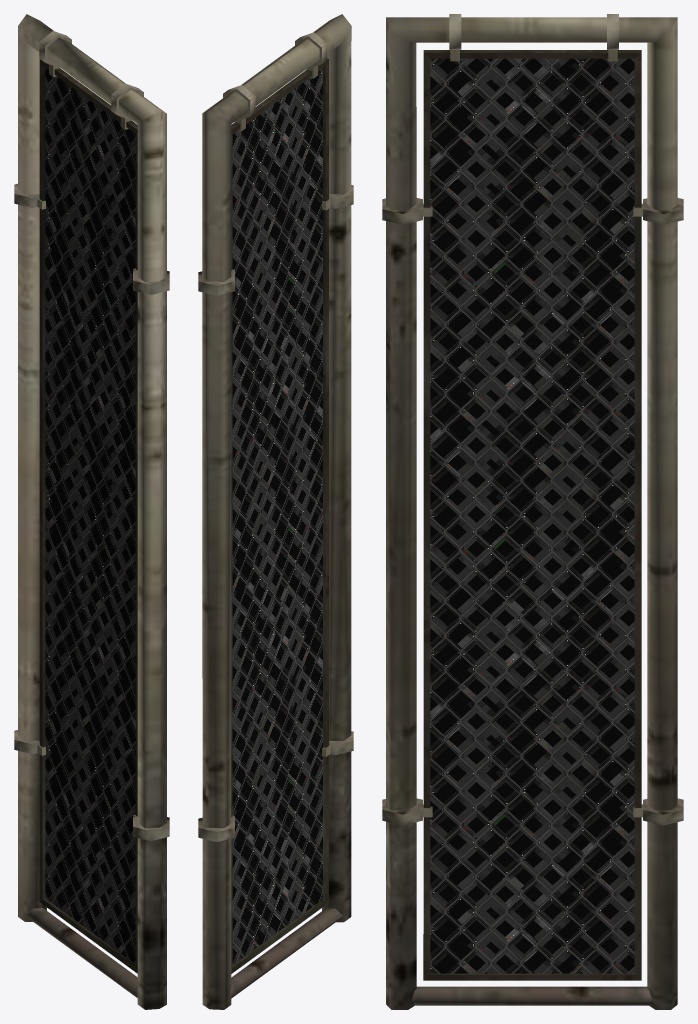
File: interior_fence003a.glb
3 views of the same model, side by side, from view 1: azimuth 30°, elevation 25°; view 2: azimuth 150°, elevation 25°; view 3: azimuth 270°, elevation 25° (orthographic). The views are drawn at different scales.
Parts seen in each view (by area): view 1: 1_fence_alpha, 0_prison_yard001; view 2: 1_fence_alpha, 0_prison_yard001; view 3: 1_fence_alpha, 0_prison_yard001.
Part boxes in pixels (left/top/right/bottom): 1_fence_alpha: left=45, top=68, right=135, bottom=963; 0_prison_yard001: left=14, top=14, right=169, bottom=1009; 1_fence_alpha: left=232, top=68, right=322, bottom=964; 0_prison_yard001: left=198, top=14, right=353, bottom=1009; 1_fence_alpha: left=430, top=58, right=634, bottom=973; 0_prison_yard001: left=382, top=14, right=683, bottom=1009.
Size of the model in its own units: 0.1313 by 3.06 by 0.8435.
Materials: 2 (2 with a texture image).
